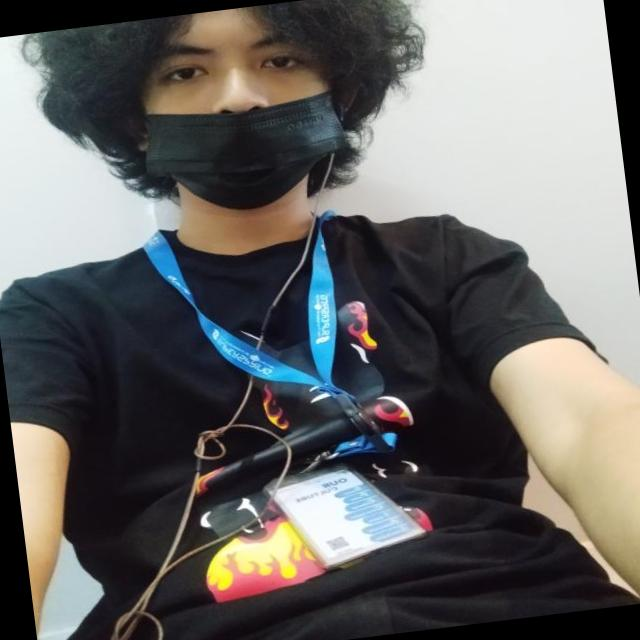id_card: (140, 208, 422, 605)
